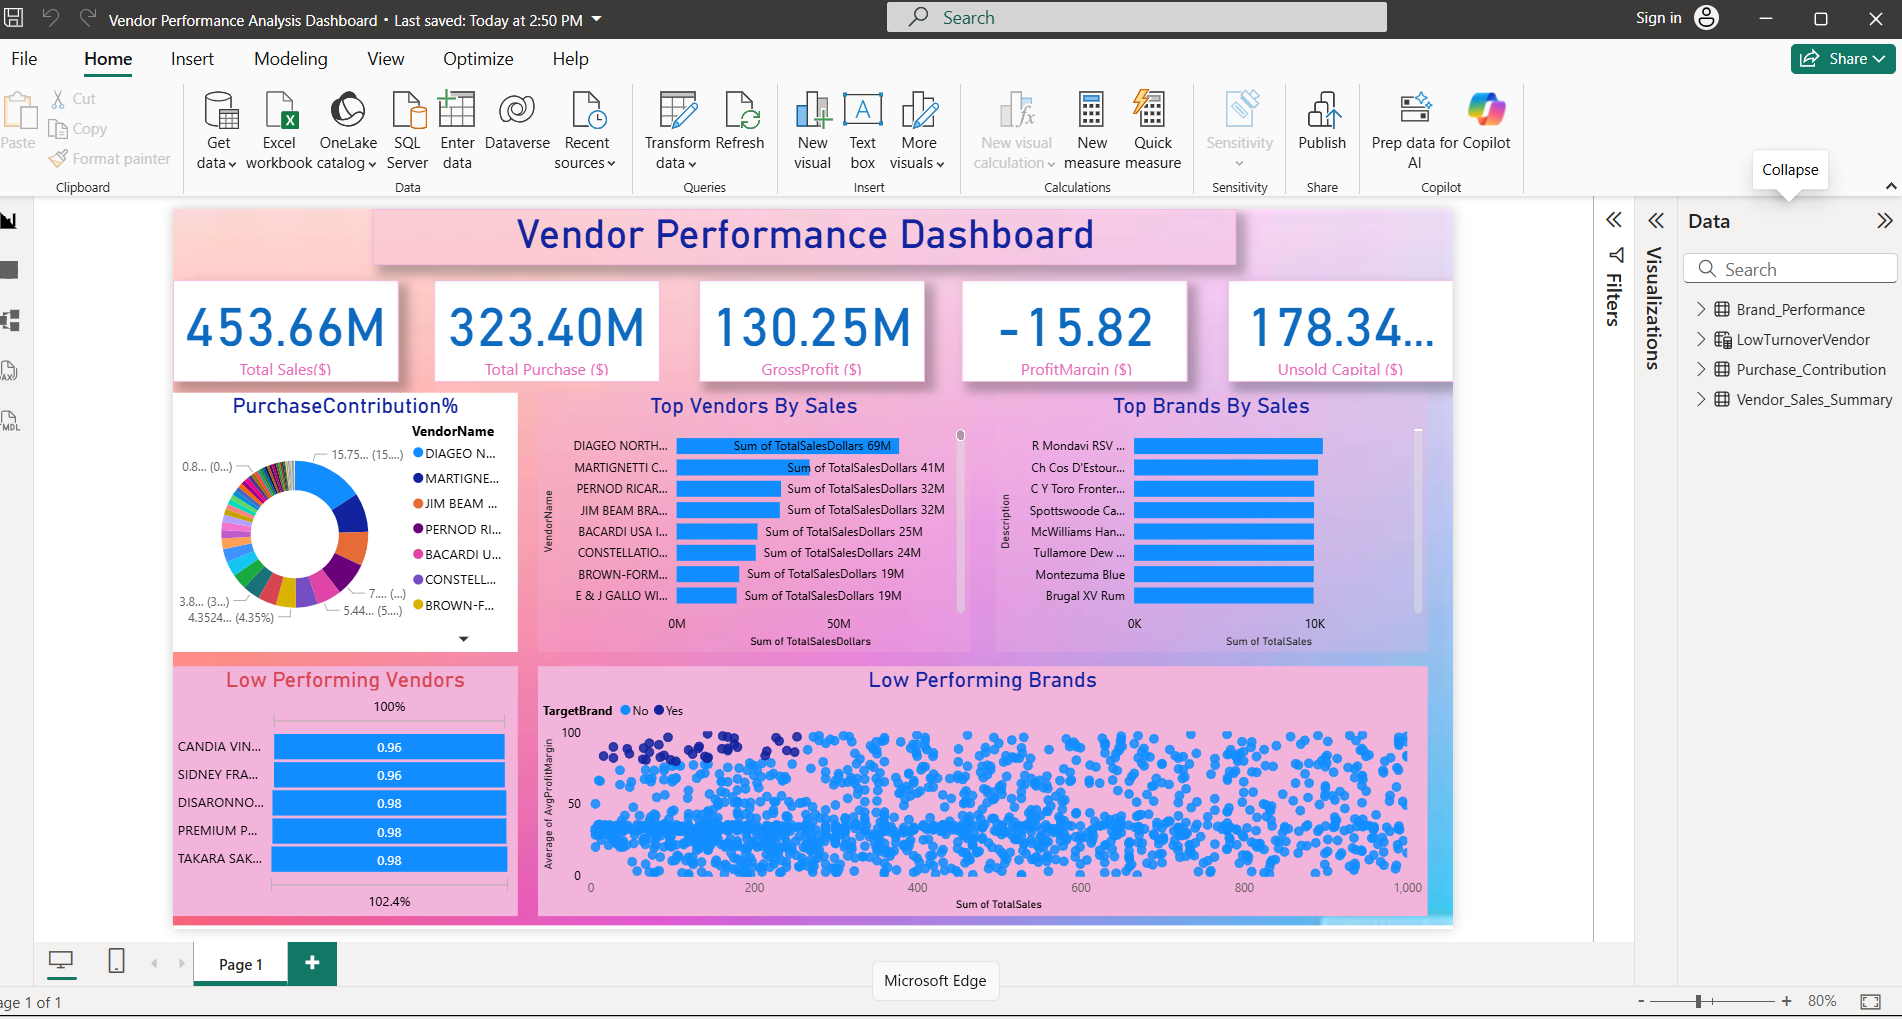

The page's visual inventory and layout, read from the dashboard file:
{"tool":"powerbi","page":{"name":"Page 1","canvas":[1280,720],"ordinal":0},"visuals":[{"type":"card","fields":{"Values":["Sum(Vendor_Sales_Summary.TotalSalesDollars)"]},"box":[0,71.2,225.6,101.3],"z":0},{"type":"card","fields":{"Values":["Sum(Vendor_Sales_Summary.TotalPurchaseDollars)"]},"box":[261.8,71.2,225.6,101.3],"z":1000},{"type":"card","fields":{"Values":["Avg(Vendor_Sales_Summary.ProfitMargin)"]},"box":[789,71.2,225.6,101.3],"z":2000},{"type":"card","fields":{"Values":["Sum(Vendor_Sales_Summary.GrossProfit)"]},"box":[526,71.2,225.6,101.3],"z":3000},{"type":"card","fields":{"Values":["Vendor_Sales_Summary.UnsoloCapital"]},"box":[1054.4,71.2,225.6,101.3],"z":4000},{"type":"donutChart","title":" PurchaseContribution% ","fields":{"Category":["Purchase_Contribution.VendorName"],"Y":["Sum(Purchase_Contribution.PurchaseContribution)"]},"box":[0,183.4,345,259.4],"z":5000},{"type":"clusteredBarChart","title":"Top Vendors By Sales","fields":{"Category":["Vendor_Sales_Summary.VendorName"],"Y":["Sum(Vendor_Sales_Summary.TotalSalesDollars)"]},"box":[365.6,183.4,431.9,259.4],"z":6000},{"type":"clusteredBarChart","title":"Top Brands By Sales","fields":{"Category":["Brand_Performance.Description"],"Y":["Sum(Brand_Performance.TotalSalesDollars)"]},"box":[822.8,183.4,431.9,259.4],"z":7000},{"type":"funnel","title":"Low Performing Vendors","fields":{"Category":["LowTurnoverVendor.VendorName"],"Y":["Avg(LowTurnoverVendor.AvgStockTurnOver)"]},"box":[0,457.6,344.6,249.2],"z":8000},{"type":"scatterChart","title":"Low Performing Brands","fields":{"Category":["Brand_Performance.Description"],"X":["Sum(Brand_Performance.TotalSales)"],"Y":["Avg(Brand_Performance.ProfitMargin)"],"Series":["Brand_Performance.TargetBrand"]},"box":[365,457.6,889.4,249.2],"z":9000},{"type":"textbox","title":"Vendor Performance Dashboard","box":[200.2,0,863.5,55.8],"z":10000}]}

Visuals, with their boxes on the page's 1280x720 design canvas (x1, y1, x2, y2). These are canvas units, not pixel positions in the 1902x1019 screenshot, which may show the page scaled, cropped or inside an application window:
card - Sum(Vendor_Sales_Summary.TotalSalesDollars): box(0, 71, 226, 172)
card - Sum(Vendor_Sales_Summary.TotalPurchaseDollars): box(262, 71, 487, 172)
card - Avg(Vendor_Sales_Summary.ProfitMargin): box(789, 71, 1015, 172)
card - Sum(Vendor_Sales_Summary.GrossProfit): box(526, 71, 752, 172)
card - Vendor_Sales_Summary.UnsoloCapital: box(1054, 71, 1280, 172)
" PurchaseContribution% " donutChart: box(0, 183, 345, 443)
"Top Vendors By Sales" clusteredBarChart: box(366, 183, 798, 443)
"Top Brands By Sales" clusteredBarChart: box(823, 183, 1255, 443)
"Low Performing Vendors" funnel: box(0, 458, 345, 707)
"Low Performing Brands" scatterChart: box(365, 458, 1254, 707)
"Vendor Performance Dashboard" textbox: box(200, 0, 1064, 56)
